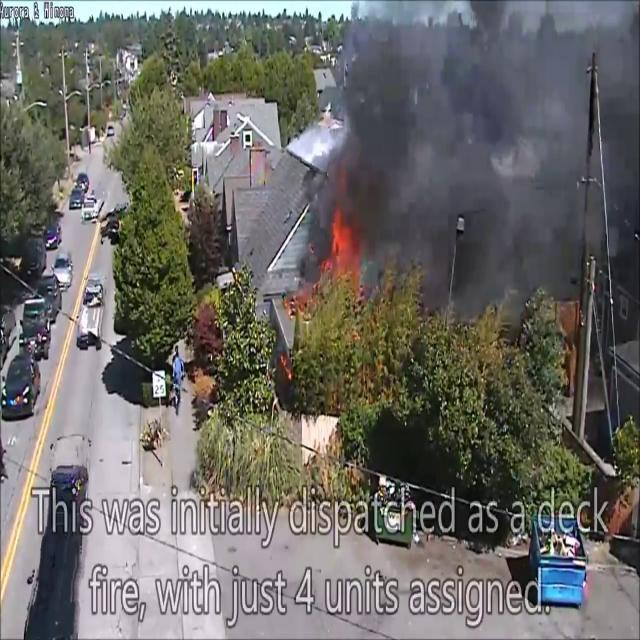Fire: (320, 206, 366, 294)
Smoke: (295, 0, 640, 322)
